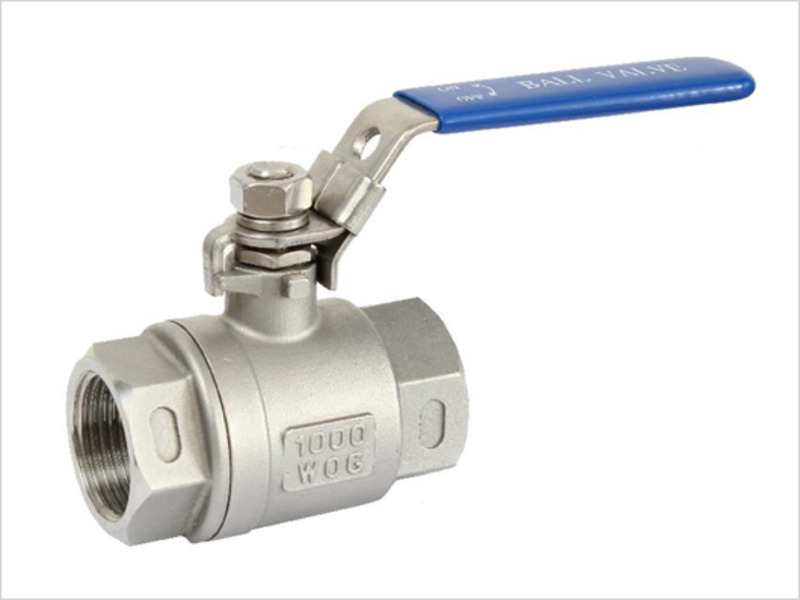valve: (12, 18, 769, 532)
